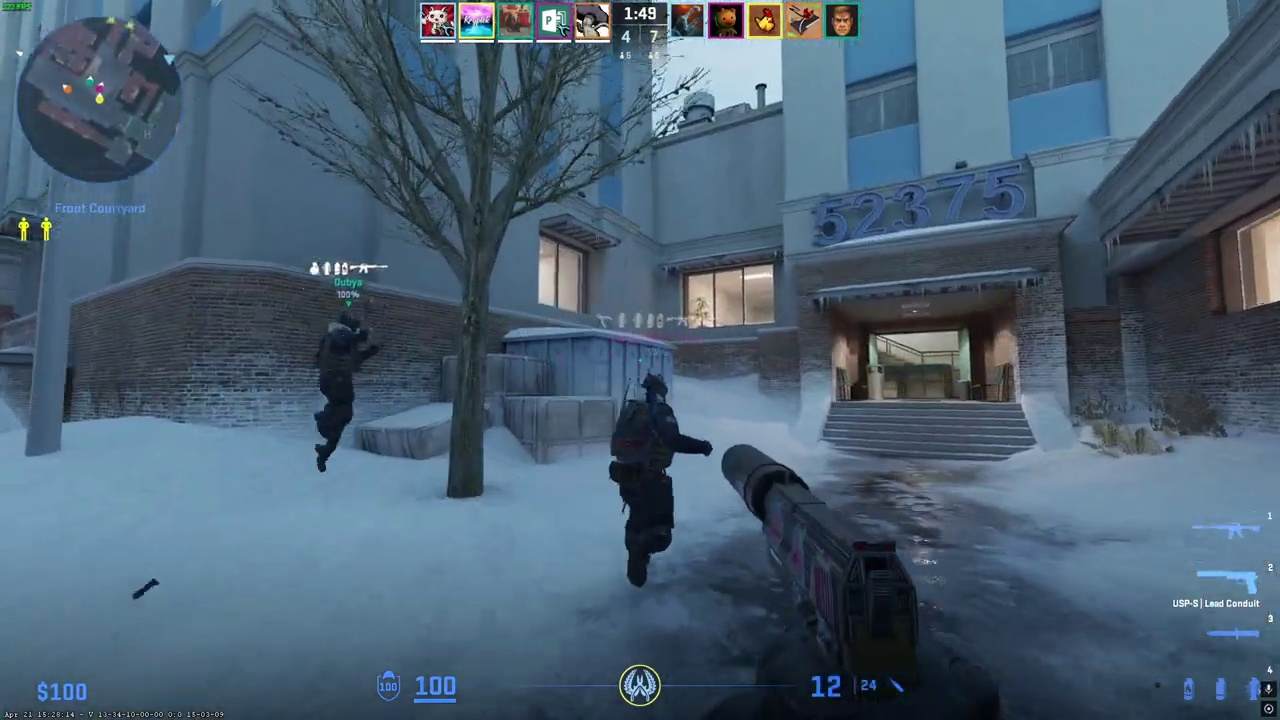CT: (609, 372, 686, 586), (314, 311, 368, 472)
